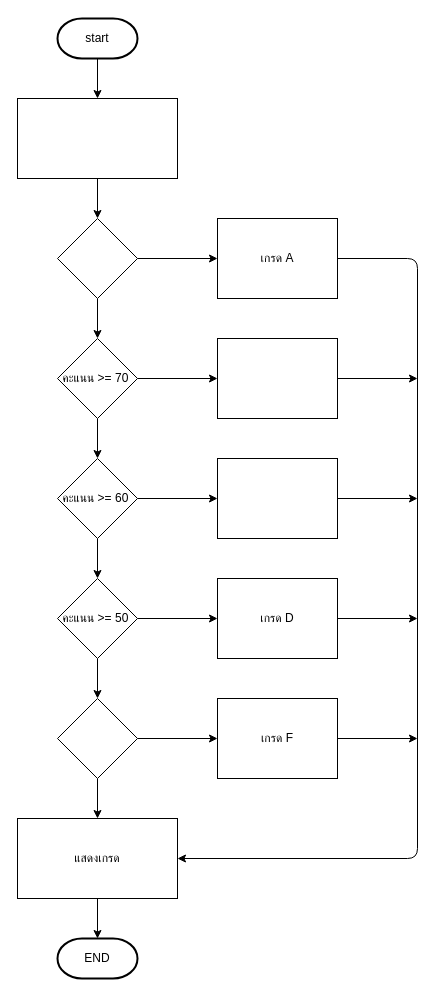
Image size: 443x996. Some labels were removed from this diagram. The shapes that lost their labels are listed below. From the top down, each one's box as (x1, y1, x2, y2) in pixels, then its label:
(16, 98, 178, 178): ใส่คะแนน
(56, 218, 138, 298): คะแนน >= 80
(216, 338, 338, 418): เกรด B
(216, 458, 338, 538): เกรด C
(56, 698, 138, 778): คะแนน <= 49
